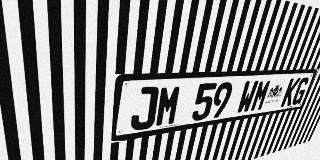5: (191, 83, 217, 122)
9: (209, 82, 234, 119)
G: (290, 77, 311, 105)
J: (130, 86, 159, 132)
K: (280, 78, 301, 107)
M: (154, 85, 183, 128), (249, 79, 272, 112)
W: (235, 80, 259, 114)
